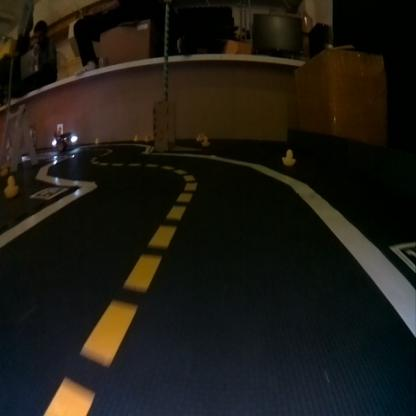Duckie: (4, 176, 17, 196), (282, 149, 295, 165), (201, 135, 209, 144), (144, 134, 150, 142), (134, 135, 139, 142)
Duckiebot: (53, 131, 76, 151)
QR code: (29, 186, 68, 198)
